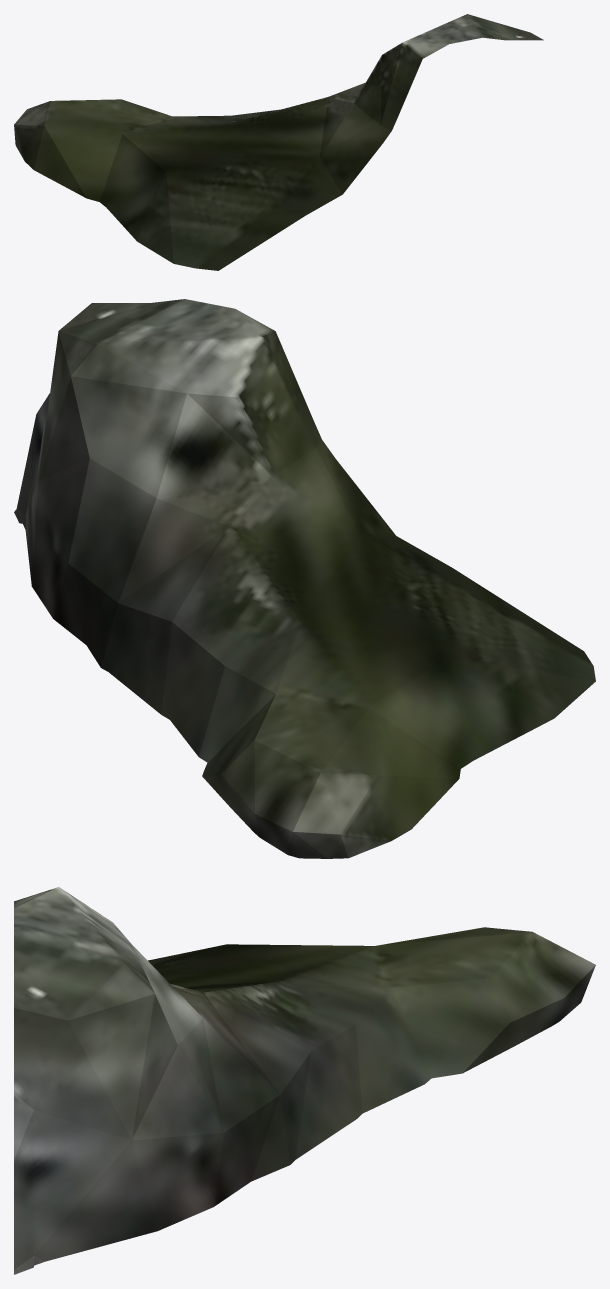
3 renders of one model, top to bottom at view 1: azimuth 30°, elevation 25°; view 2: azimuth 150°, elevation 25°; view 3: azimuth 270°, elevation 25°, orthographic. The views are drawn at different scales.
Bounding box in the file's own units: 0.7328 × 0.2892 × 0.591.
Materials: 1 (1 with a texture image).
